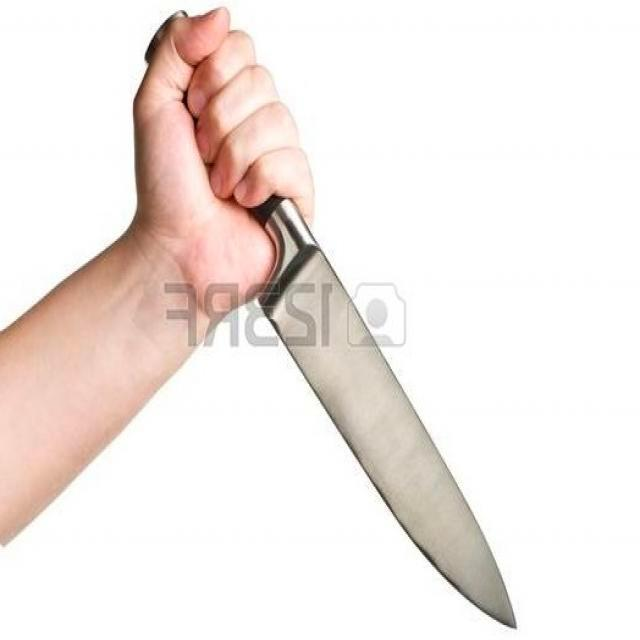Knife: (255, 198, 514, 626)
Knife_Handle: (123, 0, 556, 638)
